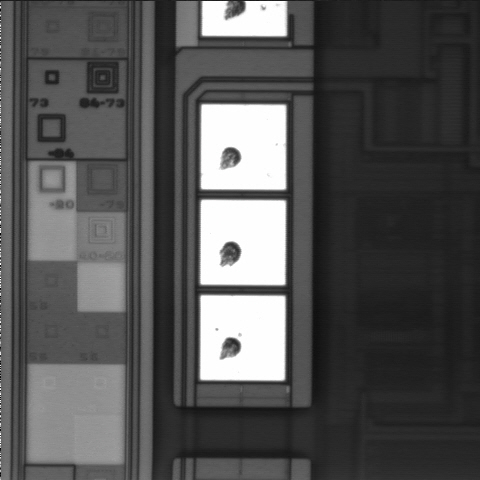pad: (201, 104, 286, 190), (200, 200, 286, 285), (200, 295, 285, 380)
